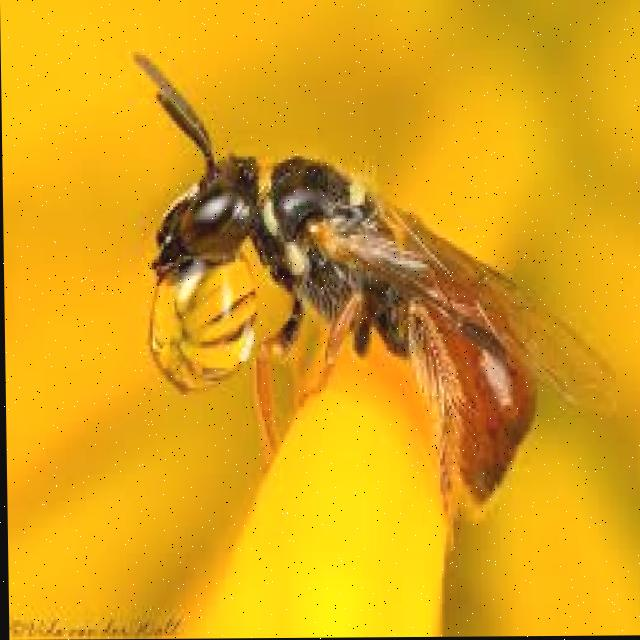Allodapula: (116, 33, 619, 538)
